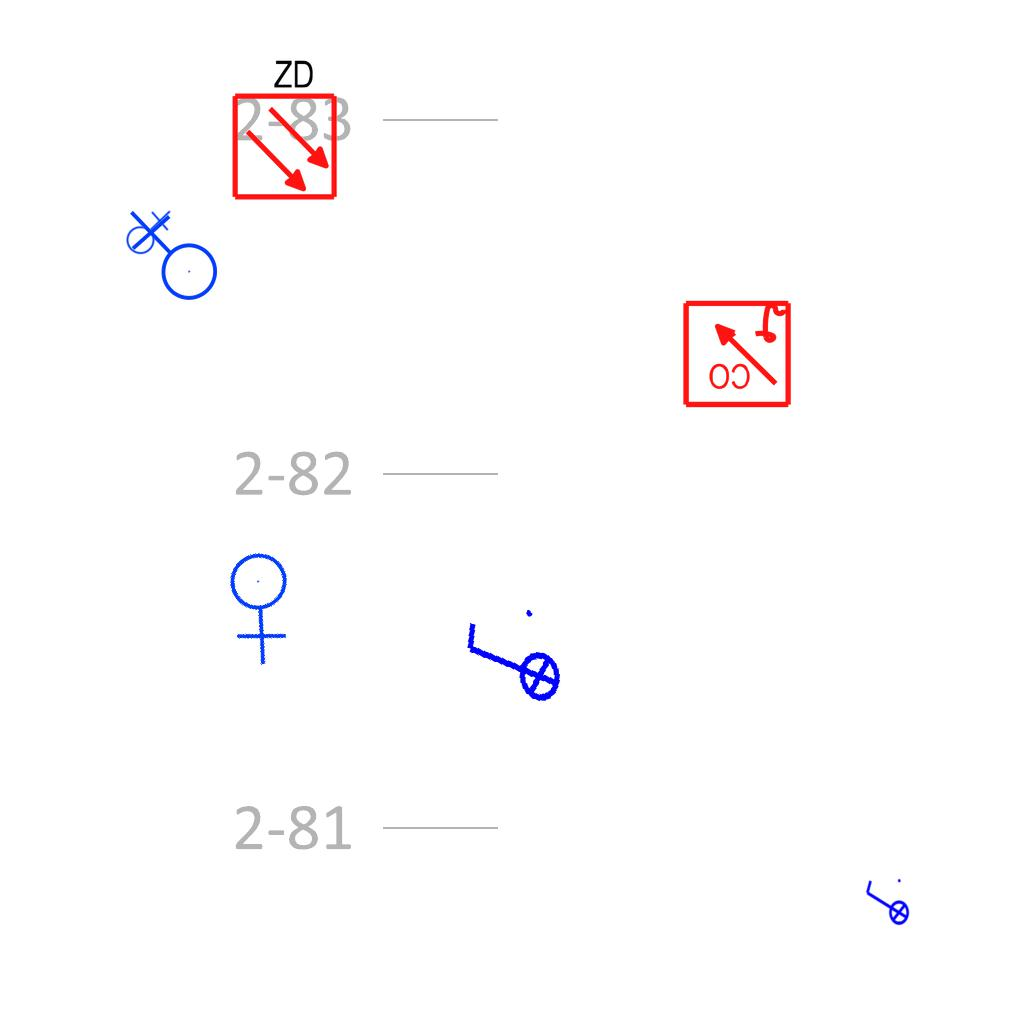Ausschalter_beleuchtet: (454, 600, 568, 728), (862, 876, 910, 932)
Elektroanschluss_allgemein_230V_Geraeteanschlussdose_230V: (195, 533, 332, 671), (125, 210, 219, 309), (122, 208, 171, 255)
ROA_Rauchmelder_optisch_mit_Signalgeber_(Sockelsirene): (680, 296, 793, 409)
ZD_Melder_in_Zwischendecke_mit_Revisionsoeffnung_mind_40_x_40_cm: (226, 53, 340, 202)
